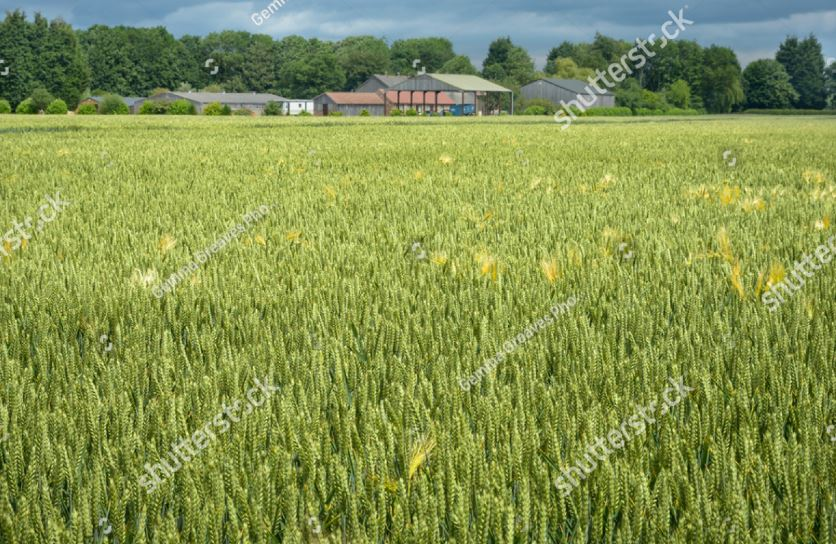Wheat: (110, 287, 807, 528)
